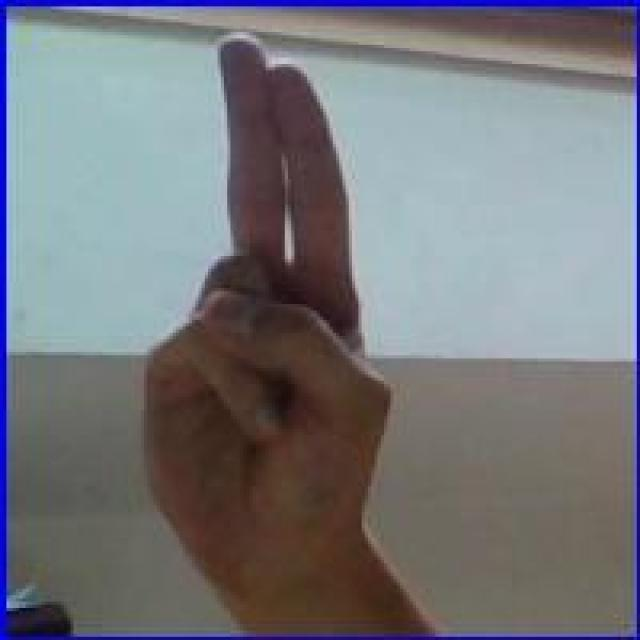U: (138, 32, 396, 570)
